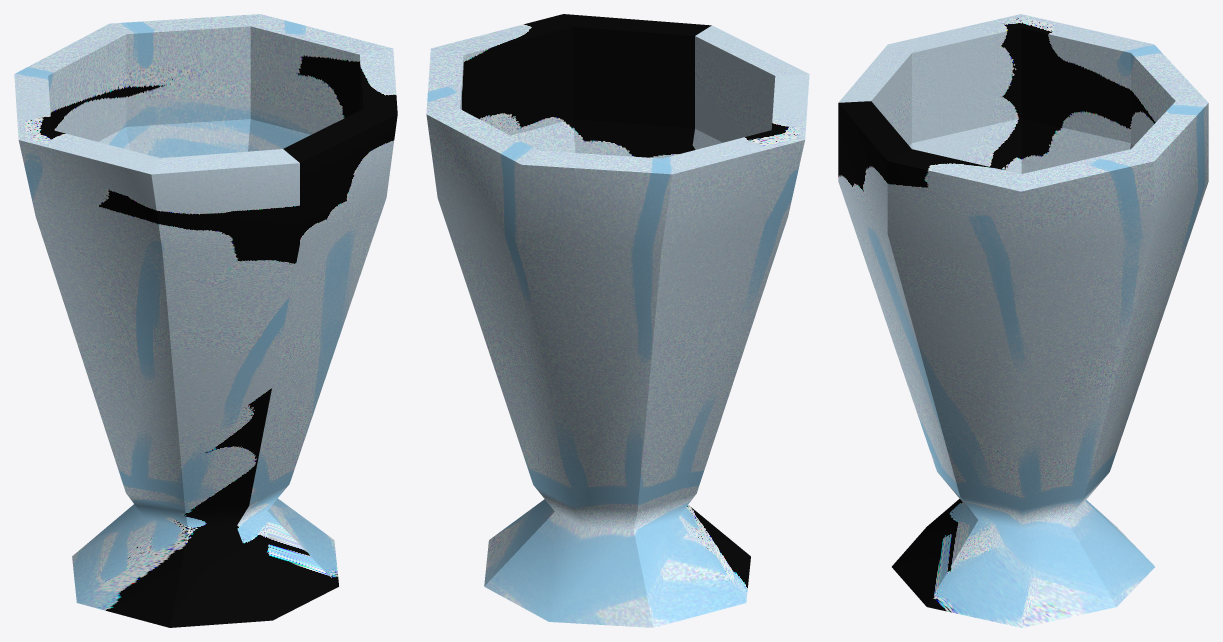
File: VasoVacio.fbx
The picture shows the model from 3 angles, left to right: view 1: azimuth 30°, elevation 25°; view 2: azimuth 150°, elevation 25°; view 3: azimuth 270°, elevation 25°; orthographic projection. The views are drawn at different scales.
Parts seen in each view (by area): view 1: Vaso; view 2: Vaso; view 3: Vaso.
Part boxes in pixels (bbox=[...]): Vaso: bbox=[14, 14, 397, 627]; Vaso: bbox=[426, 14, 809, 627]; Vaso: bbox=[838, 14, 1208, 627].
Bounding box in the file's own units: 0.4145 × 0.5066 × 0.3651.
